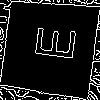E: (25, 23, 77, 62)
